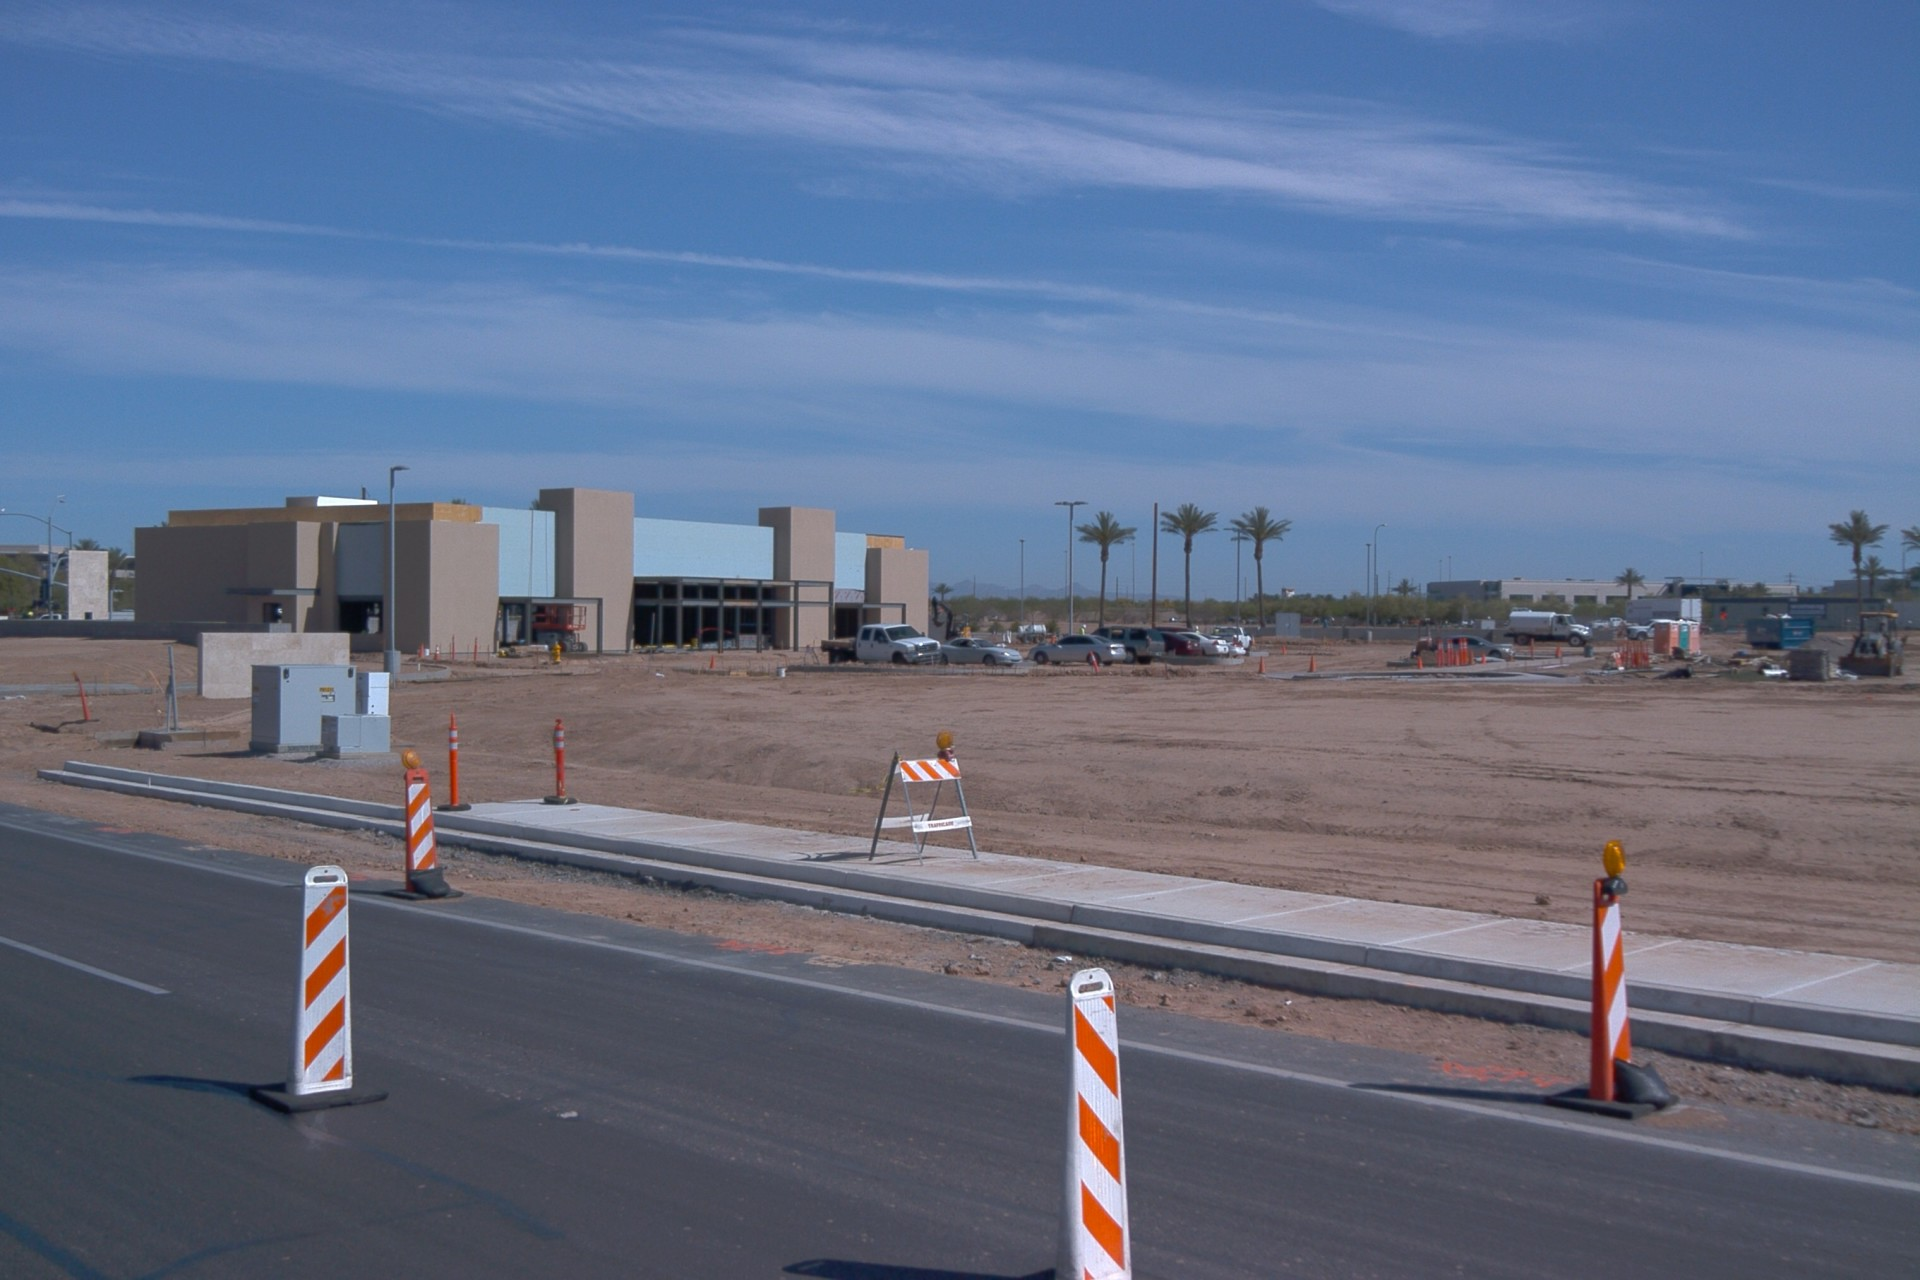TYPE_PEDESTRIAN: (1080, 620, 1093, 637), (1191, 622, 1203, 635), (1212, 626, 1218, 634)
TYPE_VEHICLE: (819, 619, 942, 667), (1836, 609, 1906, 679), (1503, 608, 1594, 651), (1090, 616, 1169, 665), (1028, 630, 1130, 667), (939, 635, 1023, 668), (1442, 632, 1513, 658), (1158, 627, 1209, 659), (1176, 628, 1229, 653), (1625, 621, 1674, 643), (1213, 626, 1254, 652), (1016, 626, 1057, 646), (1224, 639, 1249, 656), (1150, 631, 1198, 638), (1589, 619, 1612, 631), (38, 614, 61, 620), (1462, 620, 1469, 628)
